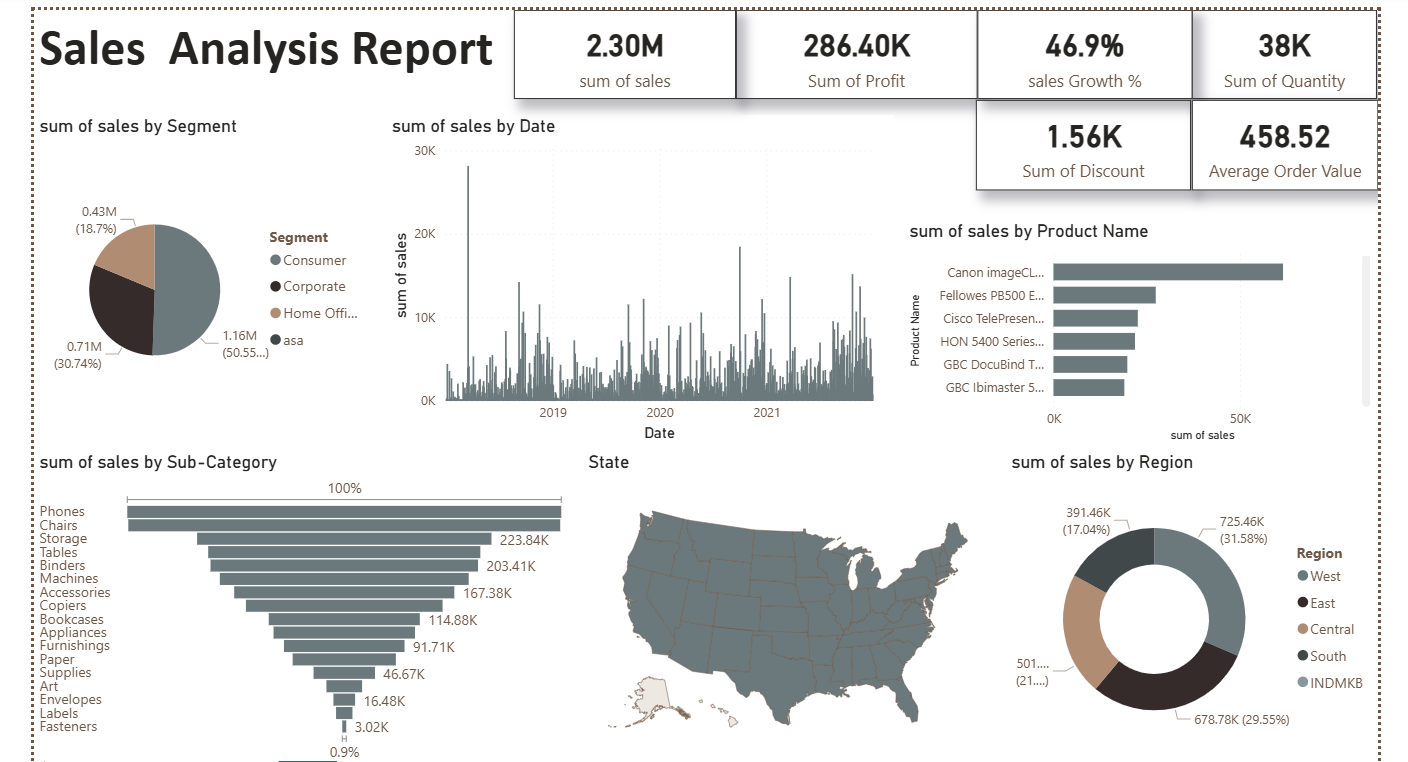

The dashboard page shown, as its layout file describes it:
{"tool":"powerbi","page":{"name":"Page 1","canvas":[1280,720],"ordinal":0},"visuals":[{"type":"donutChart","fields":{"Category":["Orders.Region"],"Y":["Orders.sum of sales"]},"box":[925.1,429.8,354.7,290.8],"z":0},{"type":"funnel","fields":{"Category":["Orders.Sub-Category"],"Y":["Orders.sum of sales"]},"box":[0,419.6,527,300.9],"z":1000},{"type":"card","fields":{"Values":["Sum(Orders.Profit)"]},"box":[672.6,0,252.4,102.3],"z":2000},{"type":"card","fields":{"Values":["Sum(Orders.Discount)"]},"box":[897.9,102.3,177.3,102.3],"z":3000},{"type":"card","fields":{"Values":["Sum(Orders.Quantity)"]},"box":[1102.4,0,175.7,102.3],"z":4000},{"type":"textbox","box":[0,0,470.9,72.7],"z":5000},{"type":"shapeMap","fields":{"Category":["Orders.State"]},"box":[527.2,447.3,397.8,273.2],"z":6000},{"type":"pieChart","fields":{"Category":["Orders.Segment"],"Y":["Orders.sum of sales"]},"box":[10.6,115.1,313.4,299.8],"z":7000},{"type":"card","fields":{"Values":["Orders.sales Growth %"]},"box":[921.9,0,182.1,102.3],"z":8000},{"type":"clusteredColumnChart","fields":{"Category":["Date.Date"],"Y":["Orders.sum of sales"]},"box":[340.3,129.4,477.7,286],"z":9000},{"type":"card","fields":{"Values":["Orders.sum of sales"]},"box":[471.3,0,196.5,102.3],"z":10000},{"type":"card","fields":{"Values":["Orders.Average Order Value"]},"box":[1075.2,102.3,204.5,100.7],"z":11000},{"type":"clusteredBarChart","fields":{"Category":["Orders.Product Name"],"Y":["Orders.sum of sales"]},"box":[844.3,227.1,422.9,188.6],"z":12000}]}

Visuals, with their boxes on the page's 1280x720 design canvas (x1, y1, x2, y2). These are canvas units, not pixel positions in the 1408x762 screenshot, which may show the page scaled, cropped or inside an application window:
donutChart - Orders.Region x Orders.sum of sales: 925:430:1280:721
funnel - Orders.Sub-Category x Orders.sum of sales: 0:420:527:720
card - Sum(Orders.Profit): 673:0:925:102
card - Sum(Orders.Discount): 898:102:1075:205
card - Sum(Orders.Quantity): 1102:0:1278:102
textbox: 0:0:471:73
shapeMap - Orders.State: 527:447:925:720
pieChart - Orders.Segment x Orders.sum of sales: 11:115:324:415
card - Orders.sales Growth %: 922:0:1104:102
clusteredColumnChart - Date.Date x Orders.sum of sales: 340:129:818:415
card - Orders.sum of sales: 471:0:668:102
card - Orders.Average Order Value: 1075:102:1280:203
clusteredBarChart - Orders.Product Name x Orders.sum of sales: 844:227:1267:416
